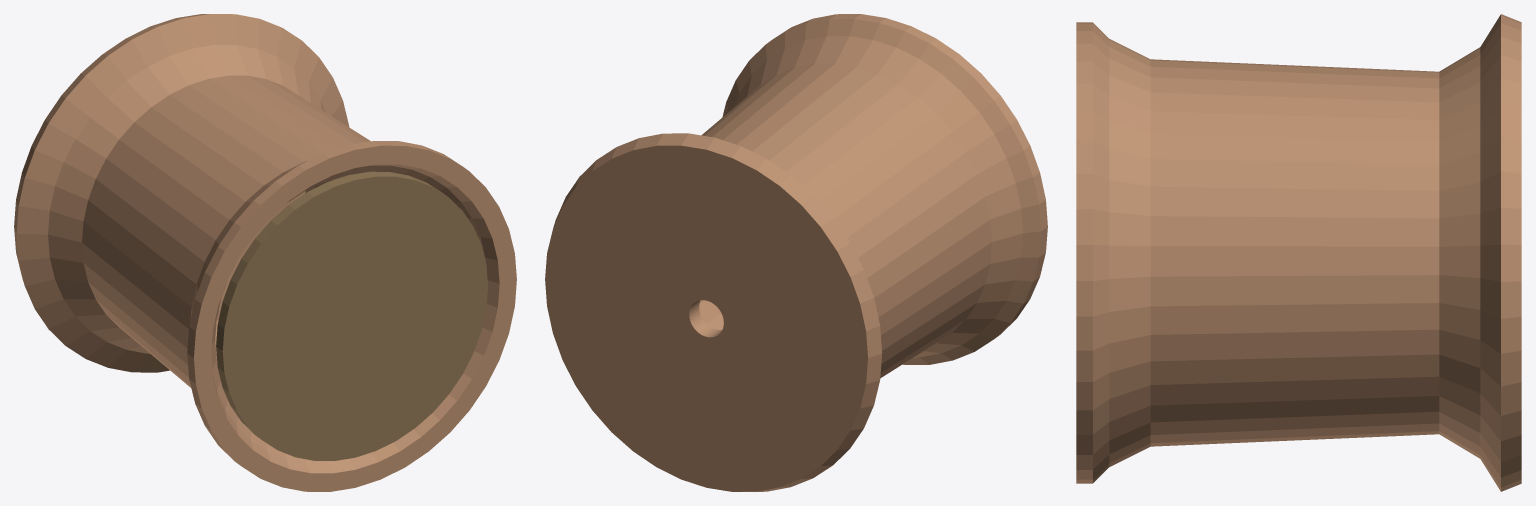
The model's file is pot_common_1.glb.
3 renders of one model, left to right at view 1: azimuth 30°, elevation 25°; view 2: azimuth 150°, elevation 25°; view 3: azimuth 270°, elevation 25°, orthographic. The views are drawn at different scales.
Parts seen in each view (by area): view 1: world; view 2: world; view 3: world.
Boxes of the visible parts, x1,y1,x2,y2 form: world: (14, 14, 516, 491); world: (545, 14, 1047, 491); world: (1076, 14, 1521, 491).
Bounding box in the file's own units: 5.8 × 5.8 × 5.4.
